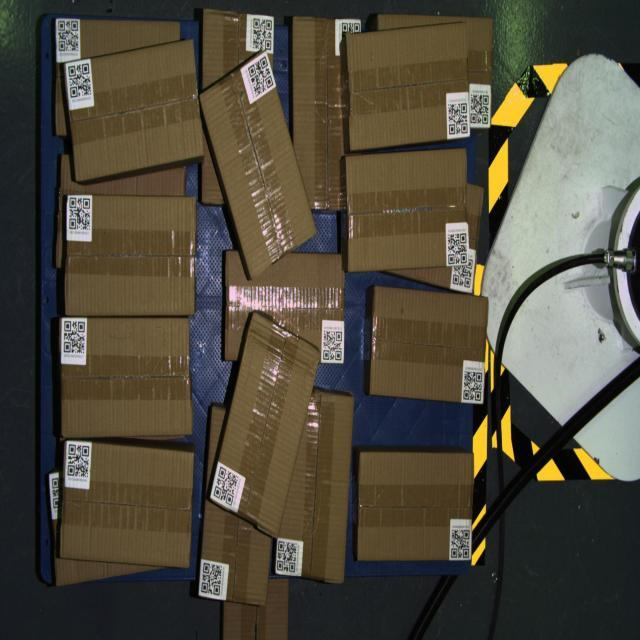box: (198, 50, 318, 281), (209, 310, 321, 540), (64, 39, 205, 182), (59, 440, 194, 570), (346, 21, 471, 150), (59, 318, 192, 438), (66, 194, 196, 315), (346, 148, 470, 272), (275, 390, 354, 584), (370, 286, 488, 404), (356, 451, 474, 562)
